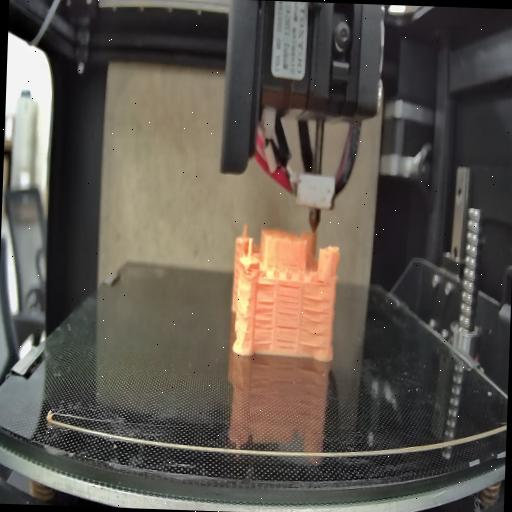cracks: (250, 297, 274, 346), (302, 294, 332, 324), (275, 284, 300, 316), (299, 328, 326, 352), (274, 323, 298, 347), (256, 279, 275, 288)
